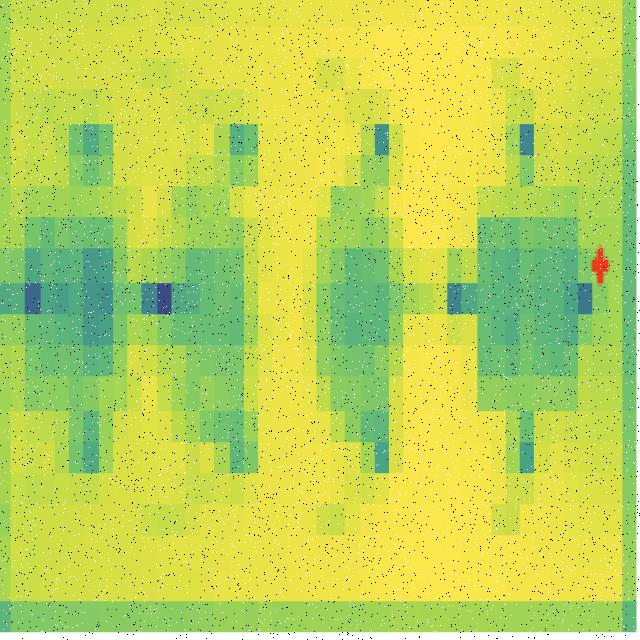Concrete: (319, 185, 407, 433)
Glass: (168, 191, 259, 441)
Metal: (476, 195, 580, 411)
Wood: (25, 188, 128, 414)
